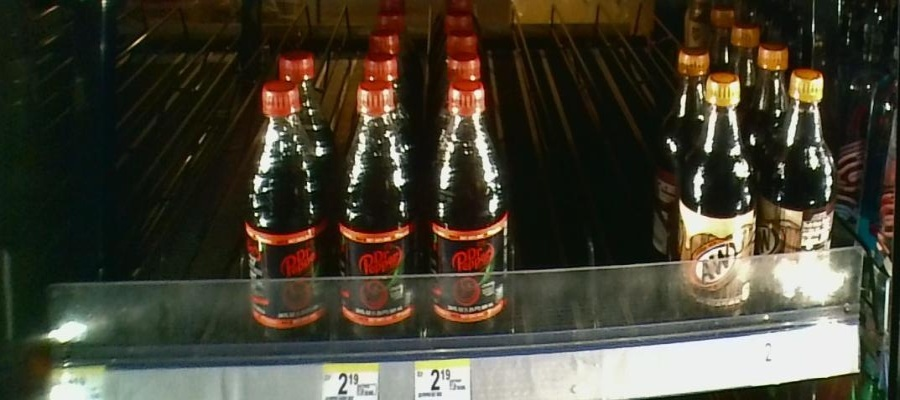bottle: (245, 69, 333, 358), (424, 74, 512, 354), (673, 62, 761, 325), (338, 76, 419, 356), (763, 64, 842, 322)
